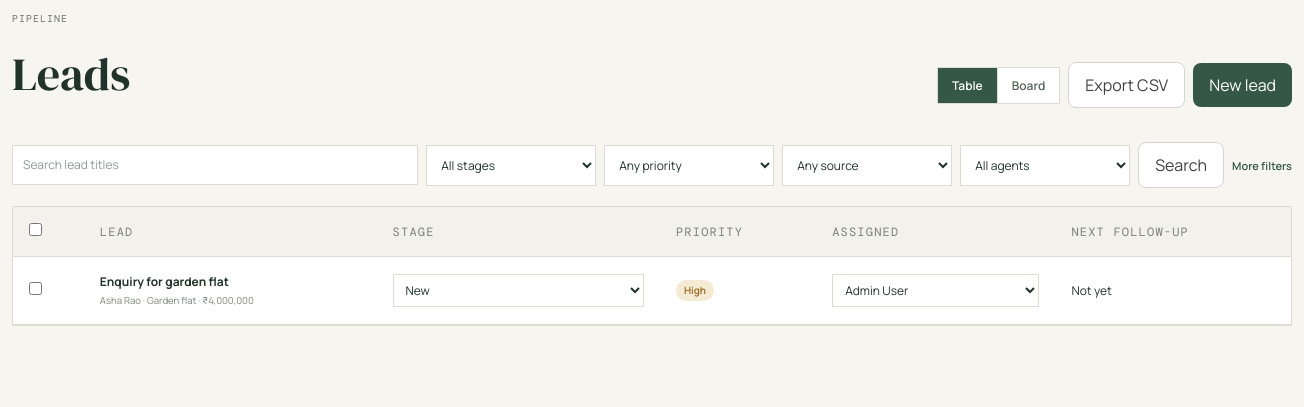
Test: LeadsPage › changes the stage of every selected lead at once
Step 1. Click the checkbox named "Select all leads on this page" → (36, 230), box [29,223,42,236]
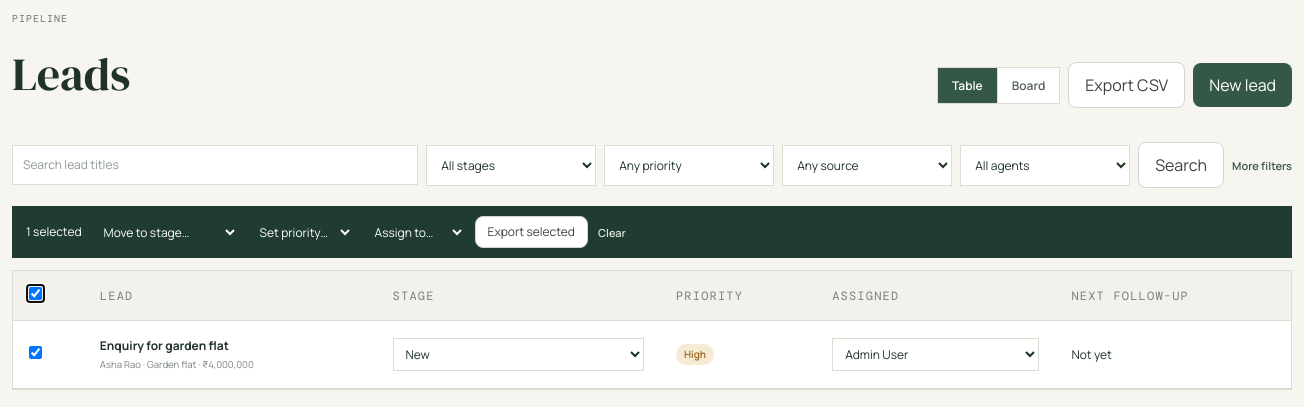
Expected: the text "1 selected" is shown, [26,223,82,241]
Step 2. Select "Negotiation" in the dropdown named "Move to stage" → (165, 232), box [92,216,238,248]
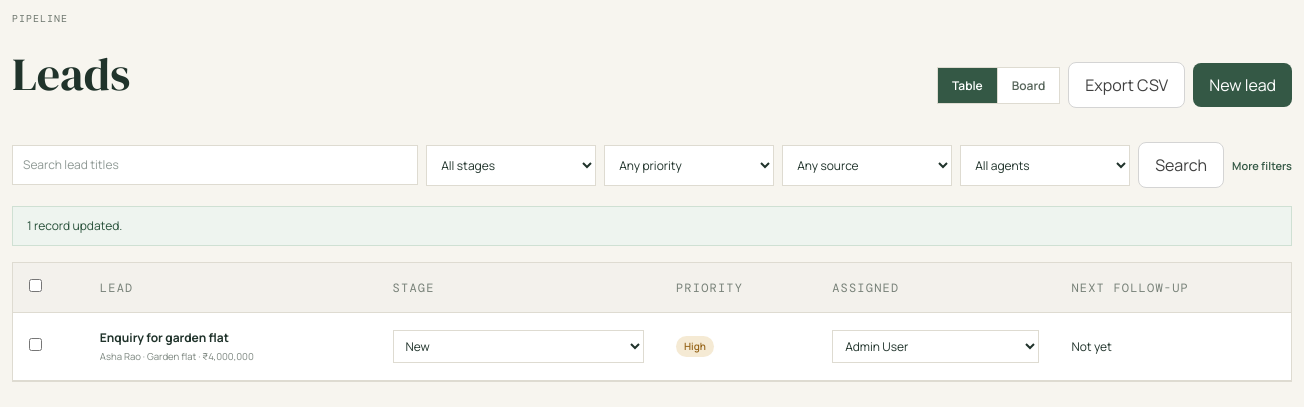
Expected: the text "1 record updated." is shown, [12,206,1292,246]
